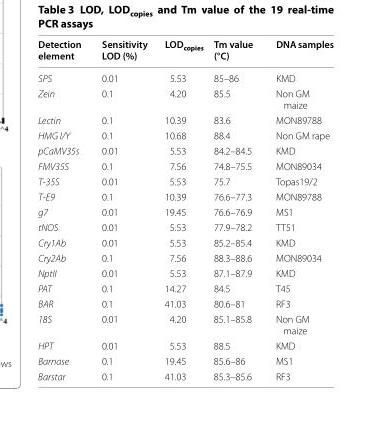table: (37, 37, 333, 381)
table column: (263, 37, 333, 381), (90, 37, 155, 381), (207, 37, 263, 381), (37, 37, 90, 381), (155, 37, 207, 381)
table column header: (37, 37, 333, 66)
table row: (37, 37, 333, 66), (37, 85, 333, 112), (37, 311, 333, 337), (37, 66, 333, 85), (37, 142, 333, 158), (37, 203, 333, 219), (37, 249, 333, 265), (37, 295, 333, 311), (37, 352, 333, 368), (37, 112, 333, 127), (37, 127, 333, 142), (37, 158, 333, 173), (37, 173, 333, 188), (37, 188, 333, 203), (37, 219, 333, 234), (37, 234, 333, 249), (37, 265, 333, 280), (37, 280, 333, 295), (37, 337, 333, 352), (37, 368, 333, 381)
